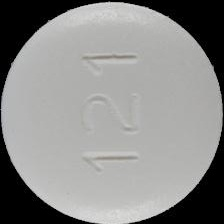67877-294: (0, 0, 224, 224)
